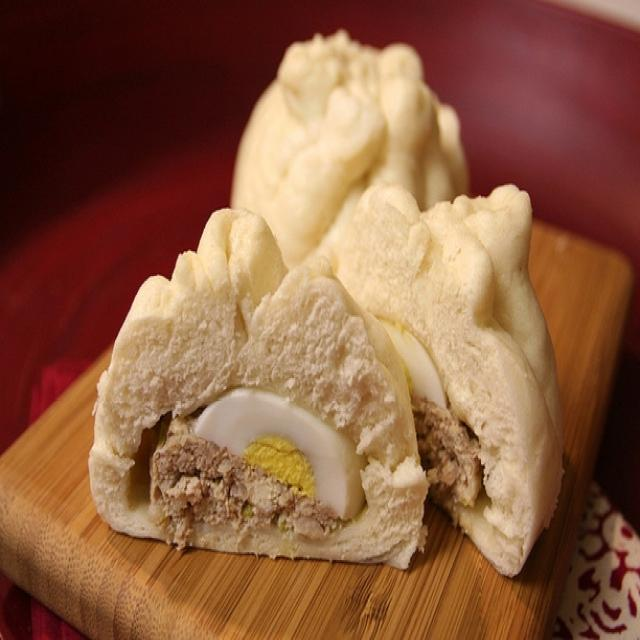带馅早点: (42, 39, 586, 595)
